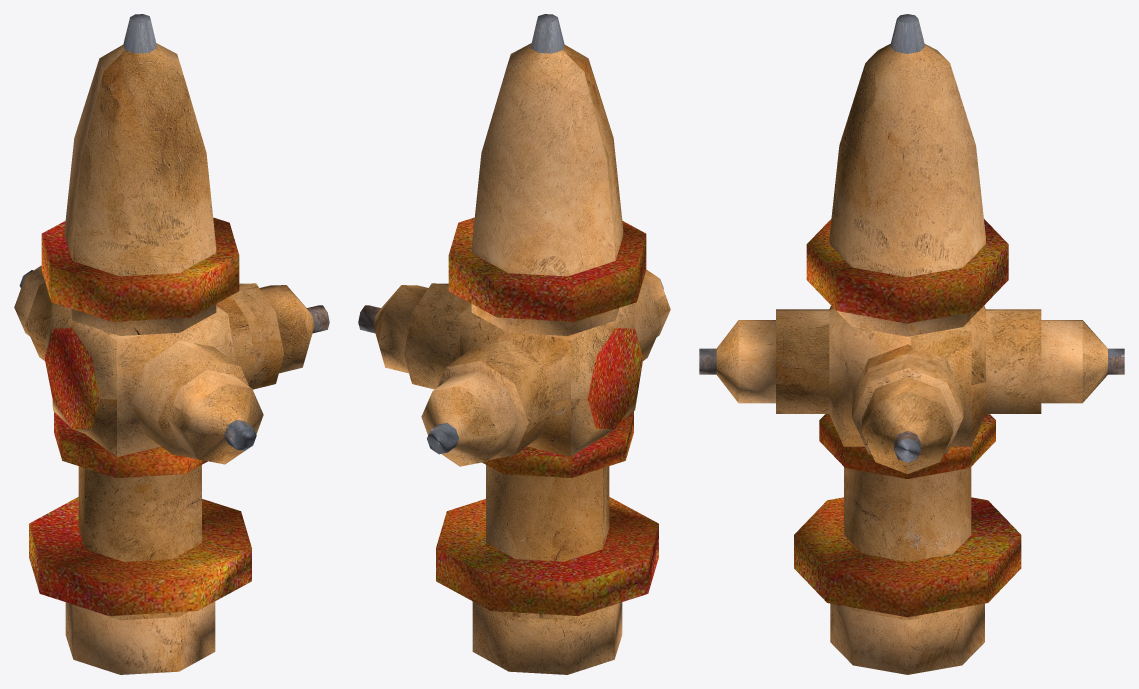
Rendered from fire_hydrant.glb.
The picture shows the model from 3 angles, left to right: view 1: azimuth 30°, elevation 25°; view 2: azimuth 150°, elevation 25°; view 3: azimuth 270°, elevation 25°; orthographic projection.
Parts seen in each view (by area): view 1: Cylinder; view 2: Cylinder; view 3: Cylinder.
Part boxes in pixels (x1,y1,x2,y2): Cylinder: (14,14,329,674); Cylinder: (358,14,670,674); Cylinder: (699,14,1124,674).
Bounding box in the file's own units: 1.22 × 2.58 × 1.59.
3 materials, 3 textured.
